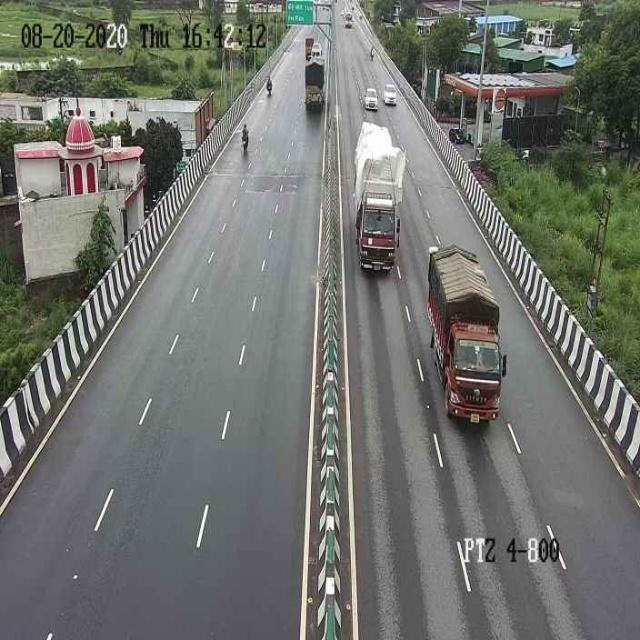car: (362, 83, 380, 114), (384, 80, 401, 108)
